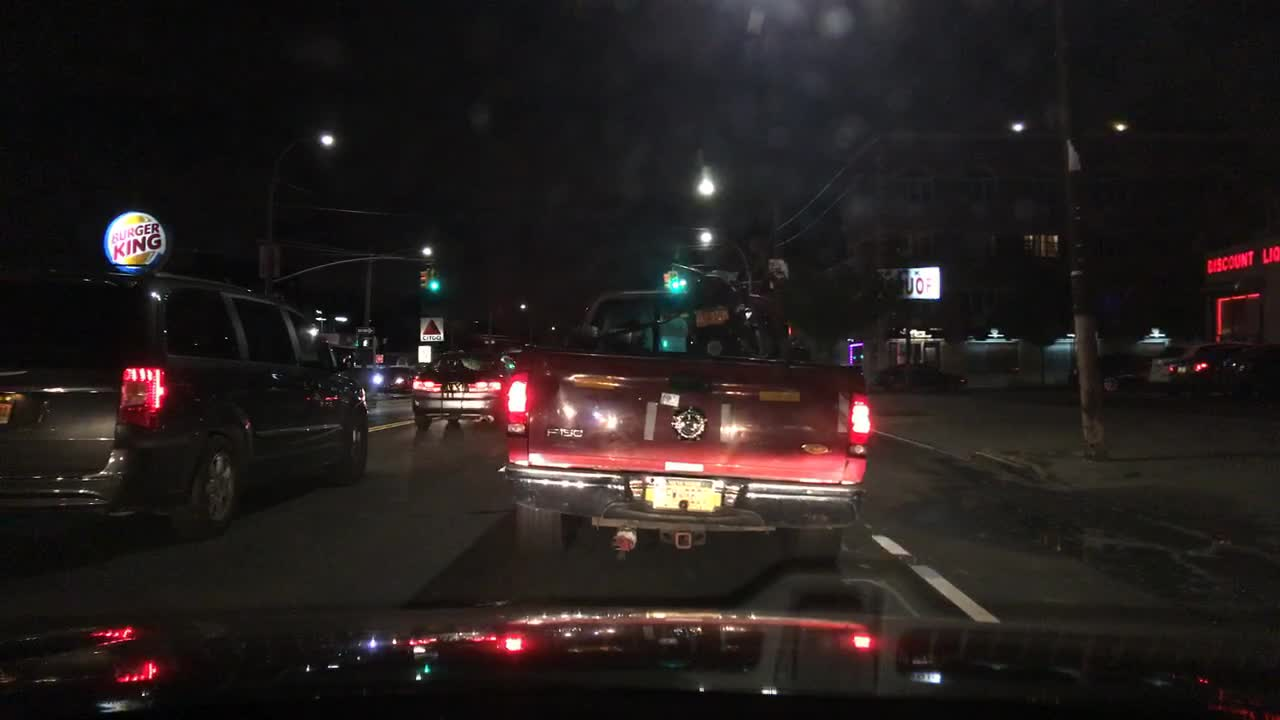car: (1, 262, 371, 548), (411, 340, 529, 429), (861, 361, 967, 396), (363, 361, 418, 395), (330, 343, 357, 378)
traffic light: (1165, 337, 1278, 388), (1070, 349, 1154, 395), (679, 274, 689, 296), (418, 267, 427, 290), (662, 272, 670, 296), (670, 273, 679, 294), (435, 269, 442, 293), (429, 269, 436, 290), (360, 335, 369, 347)
traffic sign: (257, 244, 279, 275)
truck: (502, 261, 871, 572)
